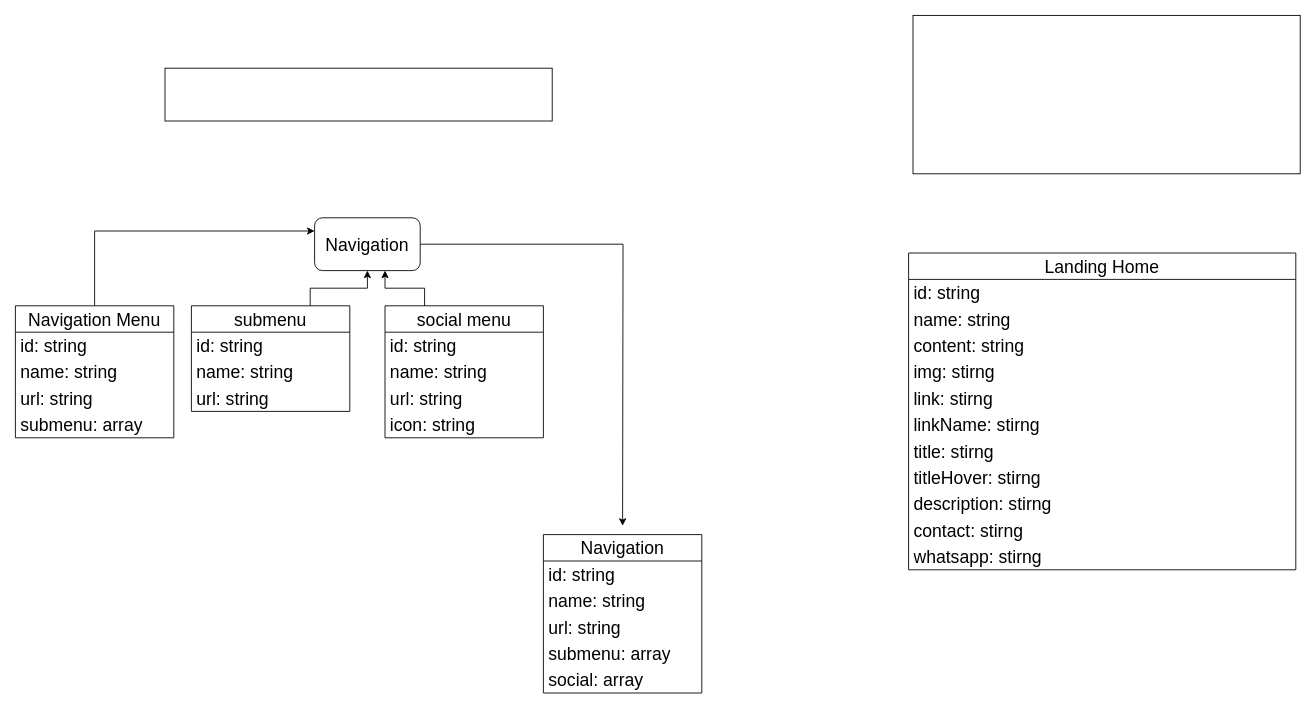
Image size: 1316x708. Some labels were removed from this diagram. The centre of each missing label's shape, as x and y in pixels:
"Leanding Hero" goes at (1106,94).
"Navbar" goes at (358,94).
